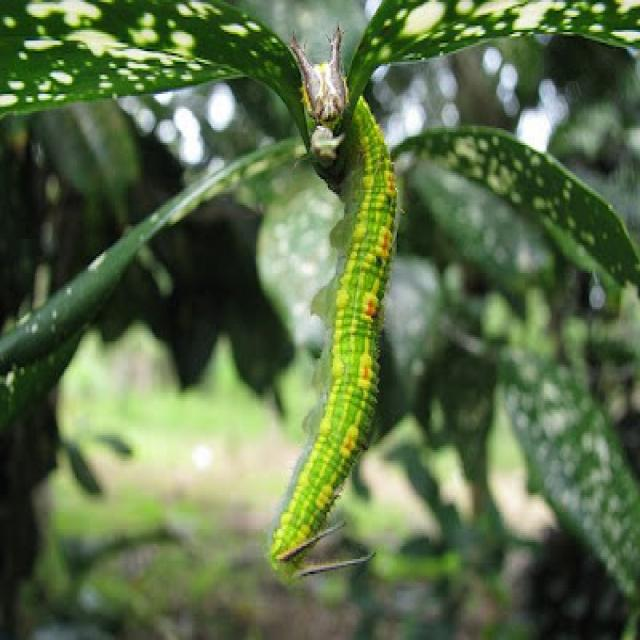caterpillar: (254, 14, 411, 585)
